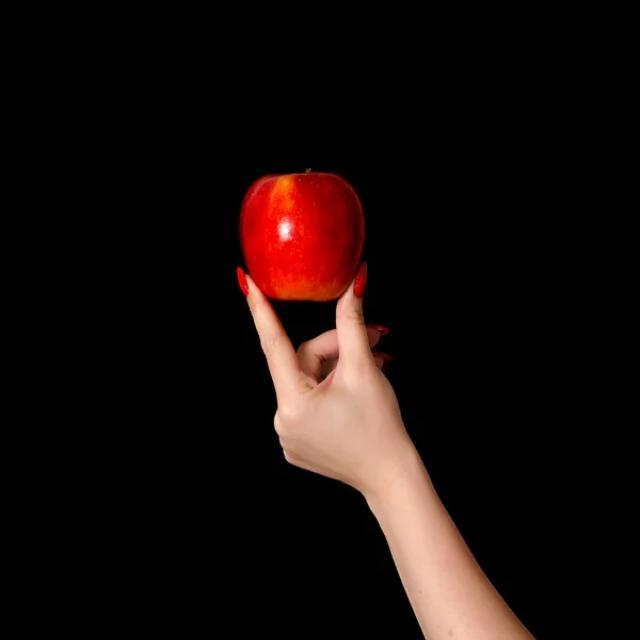Fresh Apple: (226, 165, 372, 308)
